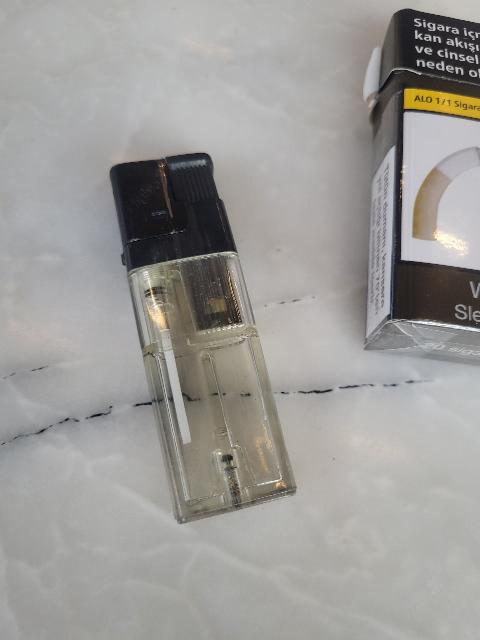Kagit: (360, 7, 480, 363)
Plastik: (108, 151, 301, 528)
